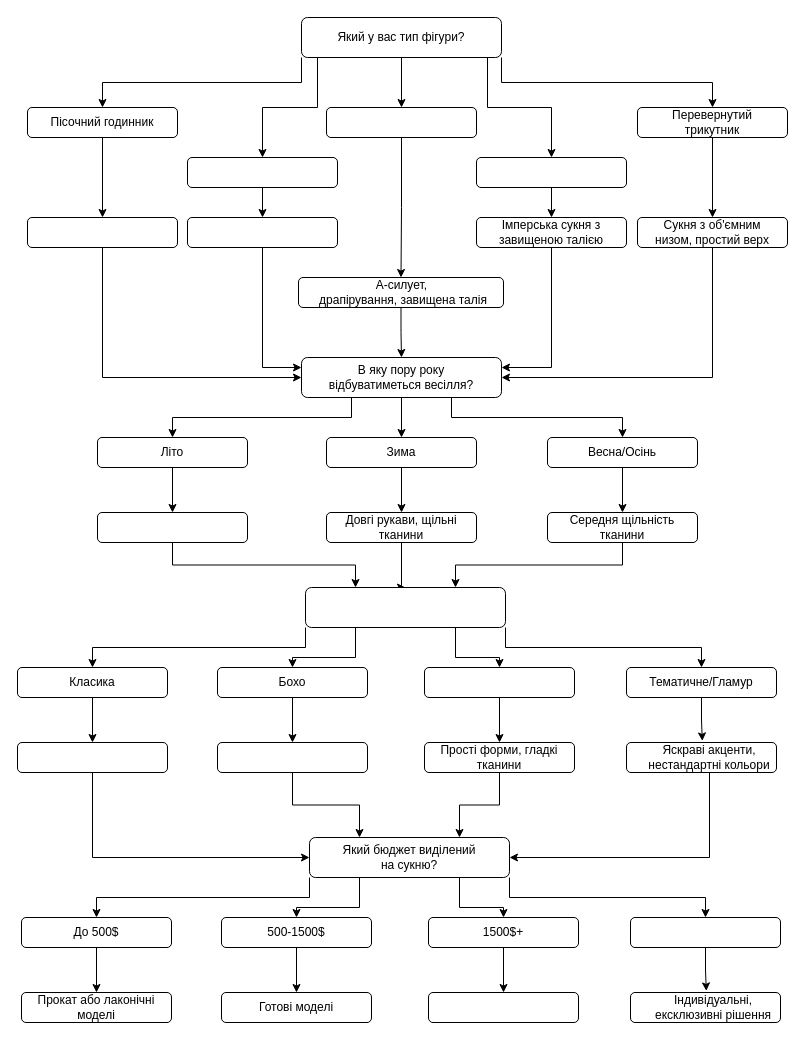
The diagram is 805 pixels wide and 1040 high, and some of its shapes have lost their labels. The shapes that lost their labels are listed below. From the top down, each one's centre as x and y in pixels, then its label:
At [401,122]: "Прямокутник".
At [262,172]: "Груша".
At [551,172]: "Яблуко".
At [102,232]: "Приталені сукні (русалка, ампір)".
At [262,232]: "А-силует з акцентом на плечах".
At [172,527]: "Легкі тканини, відкритий крій".
At [405,607]: "Якому стилю весілля надаєте перевагу?".
At [499,682]: "Мінімалізм".
At [92,757]: "Корсет, мереживо, фата, шлейф".
At [292,757]: "Натуральні тканини, віночки".
At [705,932]: "Не обмежено".
At [503,1007]: "Дизайнерські сукні".
